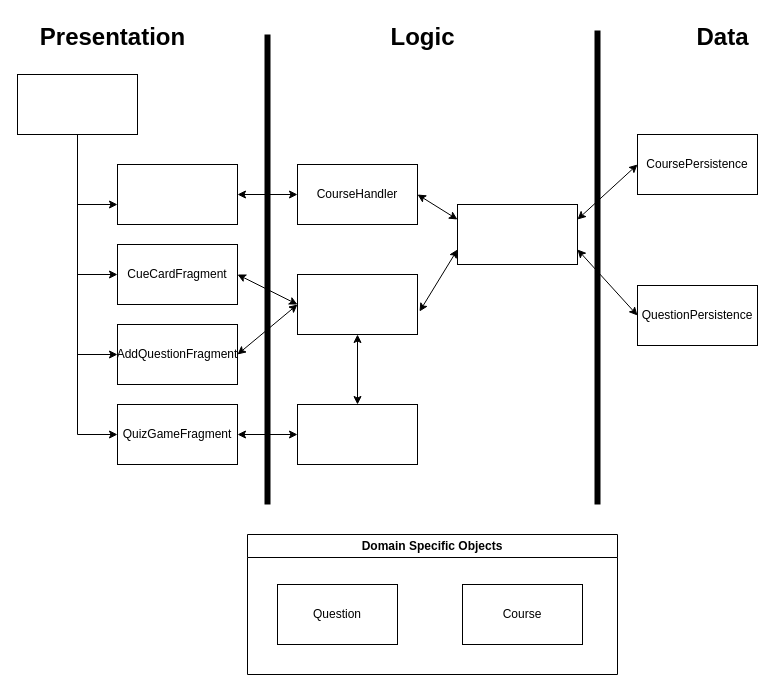
This 780x692 diagram has some shape labels left out. Each missing label, with the box of its shape:
CoursesFragment: (116, 164, 238, 224)
MainActivity: (16, 74, 138, 134)
QuestionHandler: (296, 274, 418, 334)
QuizHandler: (296, 404, 418, 464)
Services: (456, 204, 578, 264)
